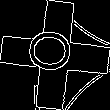O_E: (28, 31, 82, 79)
